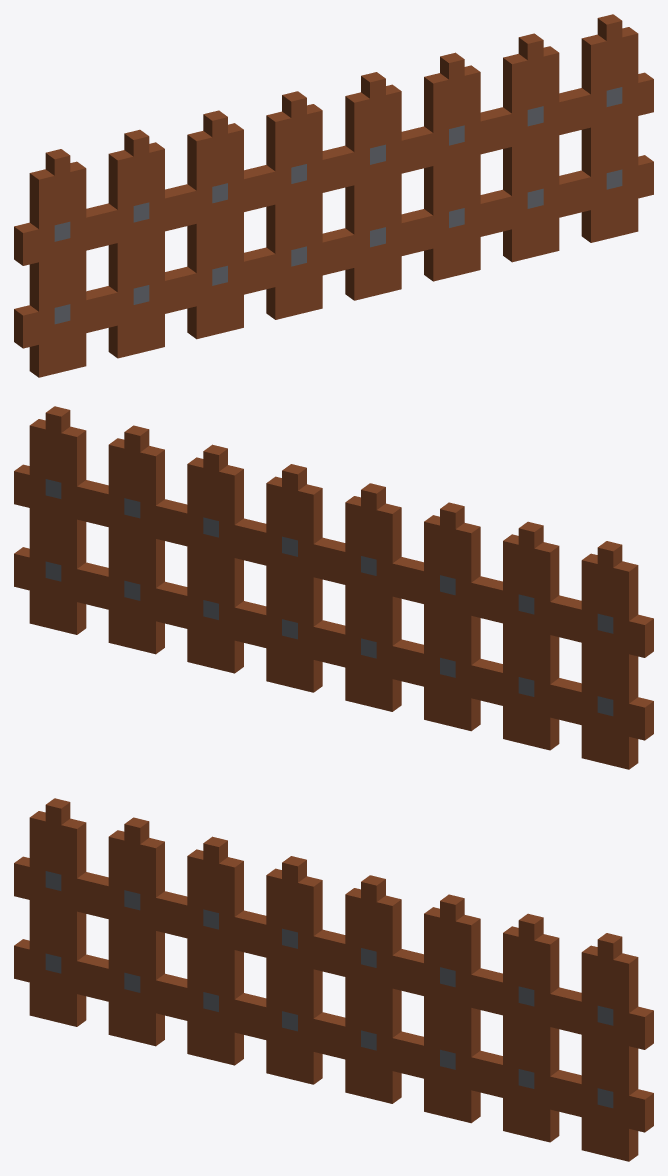
The model's file is zabor.obj.
The picture shows the model from 3 angles, top to bottom: view 1: azimuth 30°, elevation 25°; view 2: azimuth 150°, elevation 25°; view 3: azimuth 330°, elevation 25°; orthographic projection.
Size of the model in its own units: 4 by 1.3 by 0.1.
Materials: 1 (1 with a texture image).
